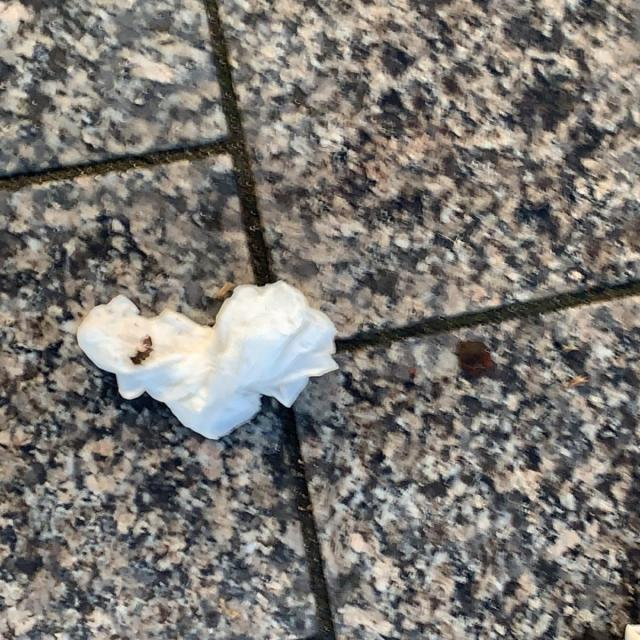Paper: (75, 280, 343, 442)
